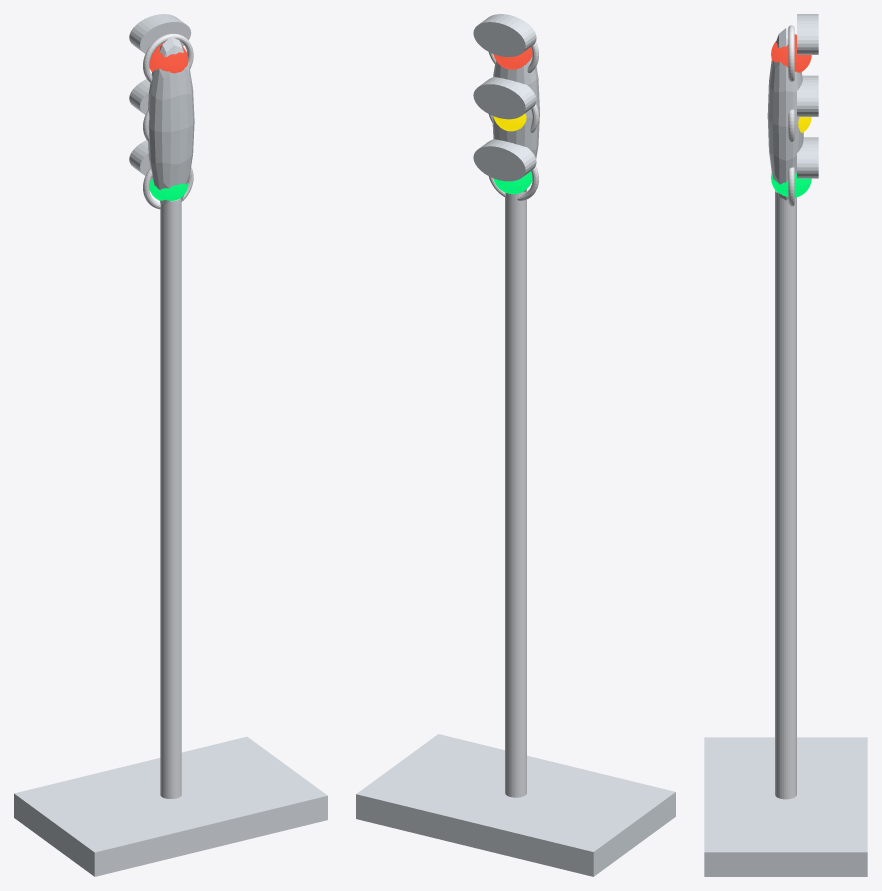
The picture shows the model from 3 angles, left to right: view 1: azimuth 30°, elevation 25°; view 2: azimuth 150°, elevation 25°; view 3: azimuth 270°, elevation 25°; orthographic projection.
Visible parts, largest first — view 1: Cube, Cylinder, Cube.001, Cylinder.001, Sphere, Torus; view 2: Cube, Cylinder, Cylinder.001, Cylinder.002, Cylinder.003, Cube.001; view 3: Cube, Cylinder, Cube.001, Cylinder.001, Cylinder.002, Cylinder.003, Sphere, Sphere.002, Torus.
Boxes of the visible parts, box(x1,y1,x2,y2) form: Cube: box(14, 736, 327, 876); Cylinder: box(160, 198, 181, 798); Cube.001: box(148, 36, 194, 204); Cylinder.001: box(129, 14, 191, 53); Sphere: box(149, 42, 188, 73); Torus: box(143, 33, 193, 83); Cube: box(356, 734, 675, 876); Cylinder: box(505, 189, 526, 797); Cylinder.001: box(473, 14, 536, 57); Cylinder.002: box(473, 77, 536, 119); Cylinder.003: box(473, 139, 536, 181); Cube.001: box(492, 57, 539, 192); Cube: box(704, 737, 867, 876); Cylinder: box(775, 190, 796, 799); Cube.001: box(767, 28, 803, 200); Cylinder.001: box(797, 14, 818, 54); Cylinder.002: box(797, 75, 818, 116); Cylinder.003: box(797, 137, 818, 178); Sphere: box(771, 34, 811, 72); Sphere.002: box(771, 173, 811, 197); Torus: box(788, 25, 794, 81).
Bounding box in the file's own units: 1 × 3.25 × 0.6.
